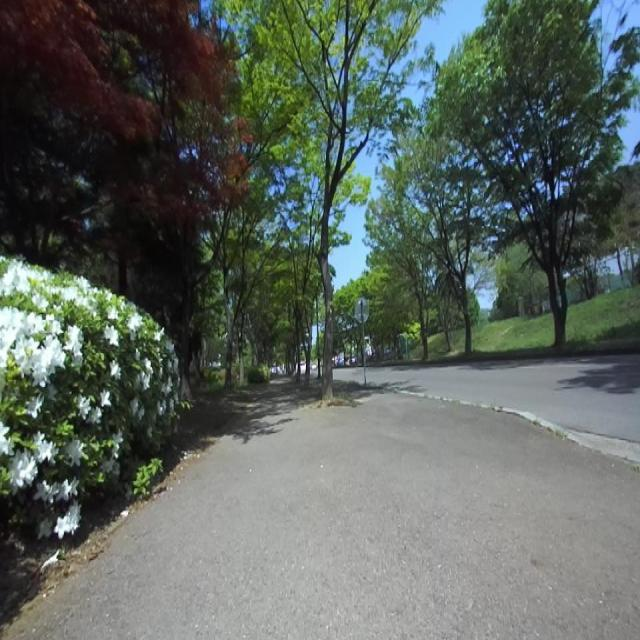sidewalk: (8, 381, 640, 639)
